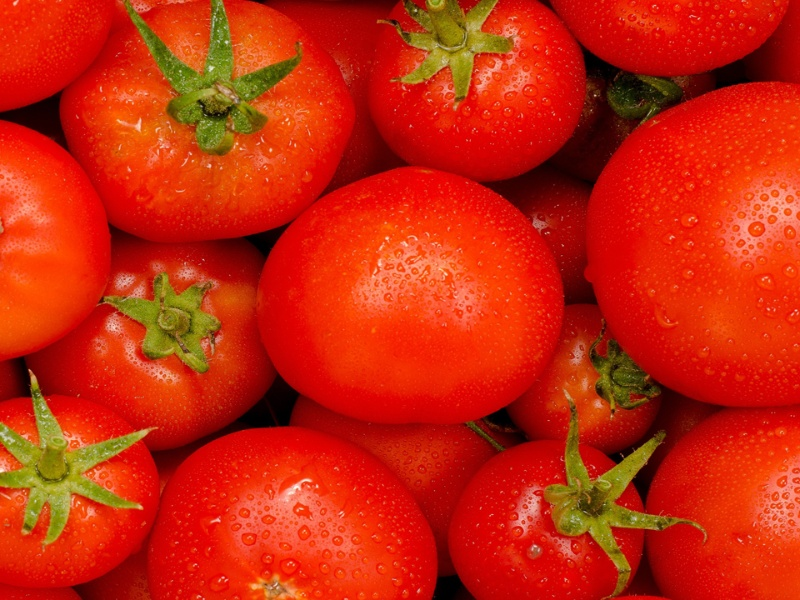Tomate: (257, 171, 566, 424), (584, 83, 800, 408), (61, 7, 356, 242), (27, 230, 279, 451), (151, 427, 439, 600), (292, 389, 511, 577), (371, 3, 587, 181), (449, 439, 647, 600), (1, 396, 160, 586), (646, 408, 799, 600), (1, 121, 113, 363), (506, 299, 671, 446), (551, 1, 788, 75), (1, 1, 111, 113)
